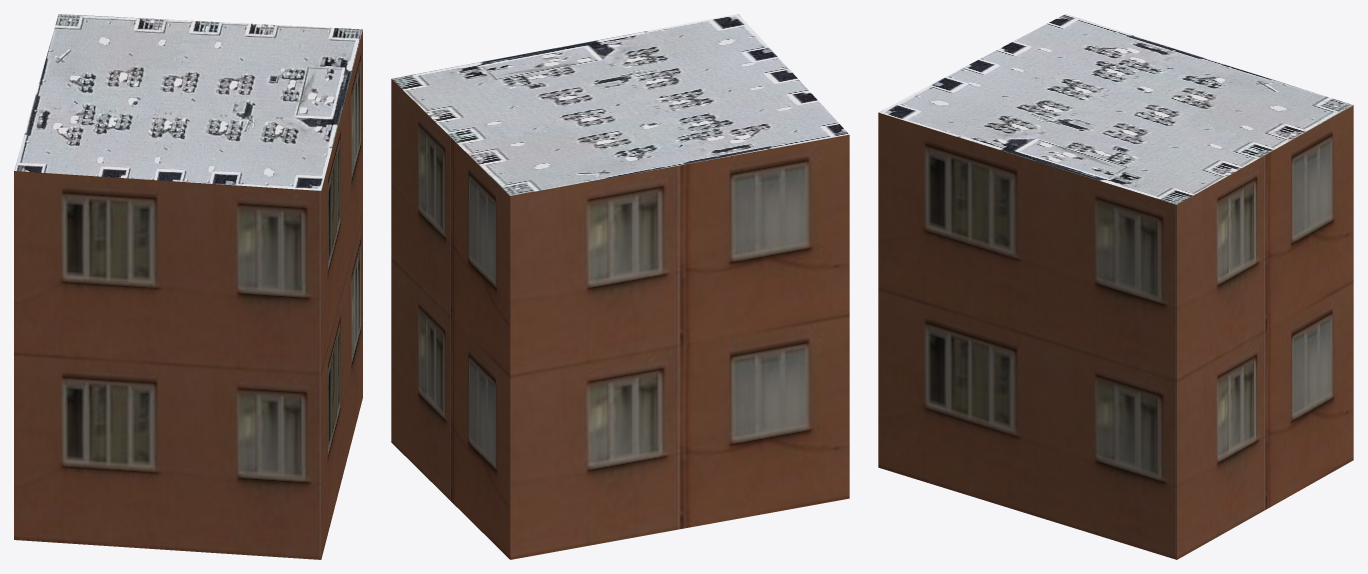
File: ResTex__2977.fbx
3 renders of one model, left to right at view 1: azimuth 30°, elevation 25°; view 2: azimuth 150°, elevation 25°; view 3: azimuth 270°, elevation 25°, orthographic. The views are drawn at different scales.
Visible parts, largest first — view 1: CityEngineMaterial_20_m, CityEngineMaterial_8_m; view 2: CityEngineMaterial_20_m, CityEngineMaterial_8_m; view 3: CityEngineMaterial_20_m, CityEngineMaterial_8_m.
Boxes of the visible parts, x1,y1,x2,y2 form: CityEngineMaterial_20_m: (14,29,362,559); CityEngineMaterial_8_m: (14,14,362,190); CityEngineMaterial_20_m: (391,79,849,559); CityEngineMaterial_8_m: (392,14,848,195); CityEngineMaterial_20_m: (878,105,1353,559); CityEngineMaterial_8_m: (878,14,1353,204).
Size of the model in its own units: 6.92 by 6 by 7.28.
Materials: 2 (2 with a texture image).
